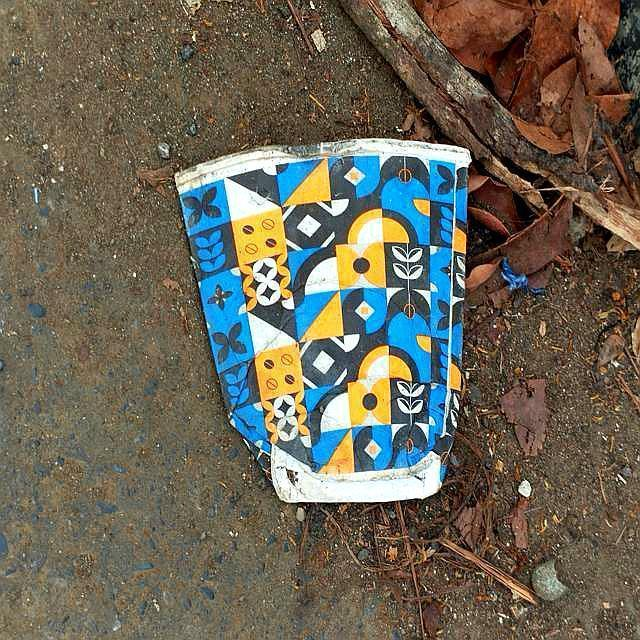Biodegradable: (177, 141, 471, 505)
